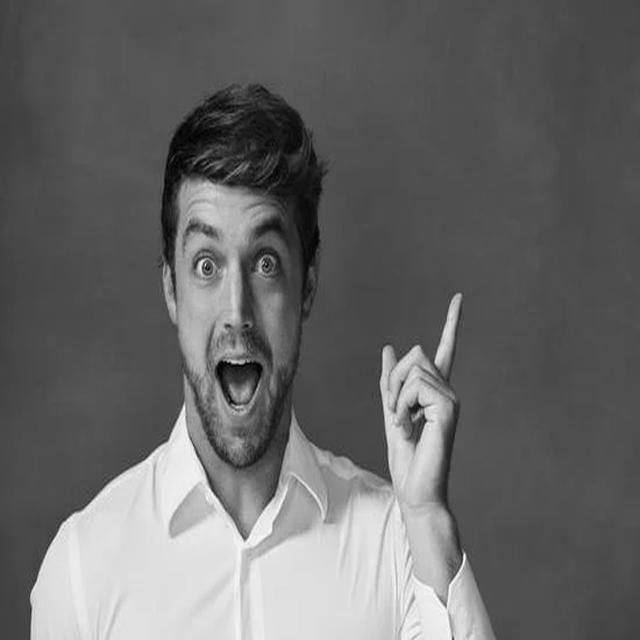Surprised: (175, 175, 303, 470)
